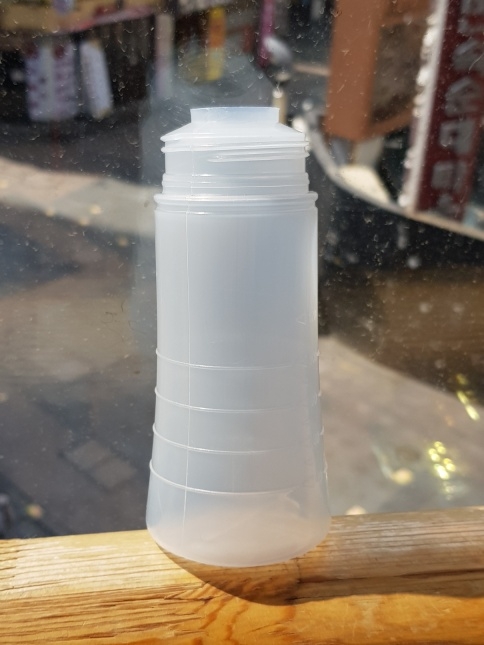Plastic: (137, 102, 336, 573)
